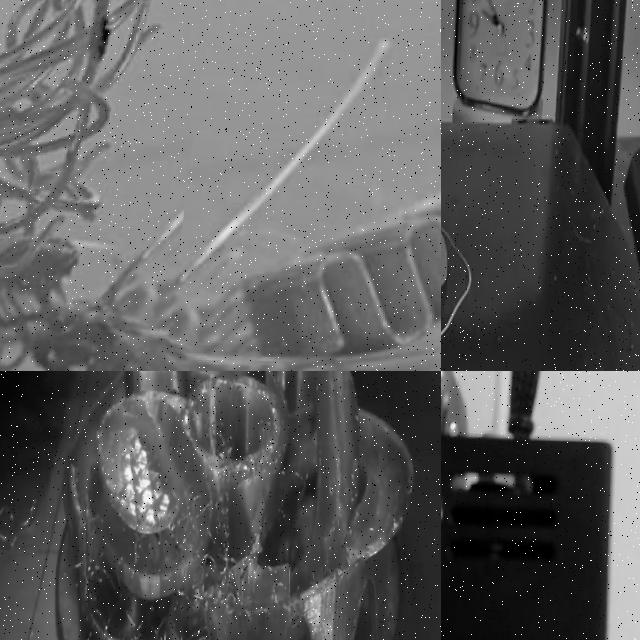spaghetti: (63, 420, 310, 640), (0, 497, 45, 558)
